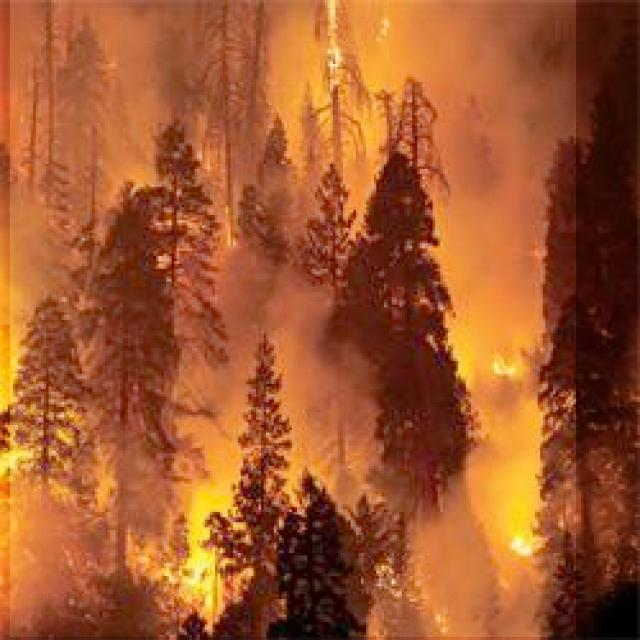Fire: (0, 325, 26, 499), (164, 540, 220, 606), (323, 2, 345, 82), (486, 354, 528, 384), (502, 530, 549, 555)
Smoke: (10, 0, 576, 637)
